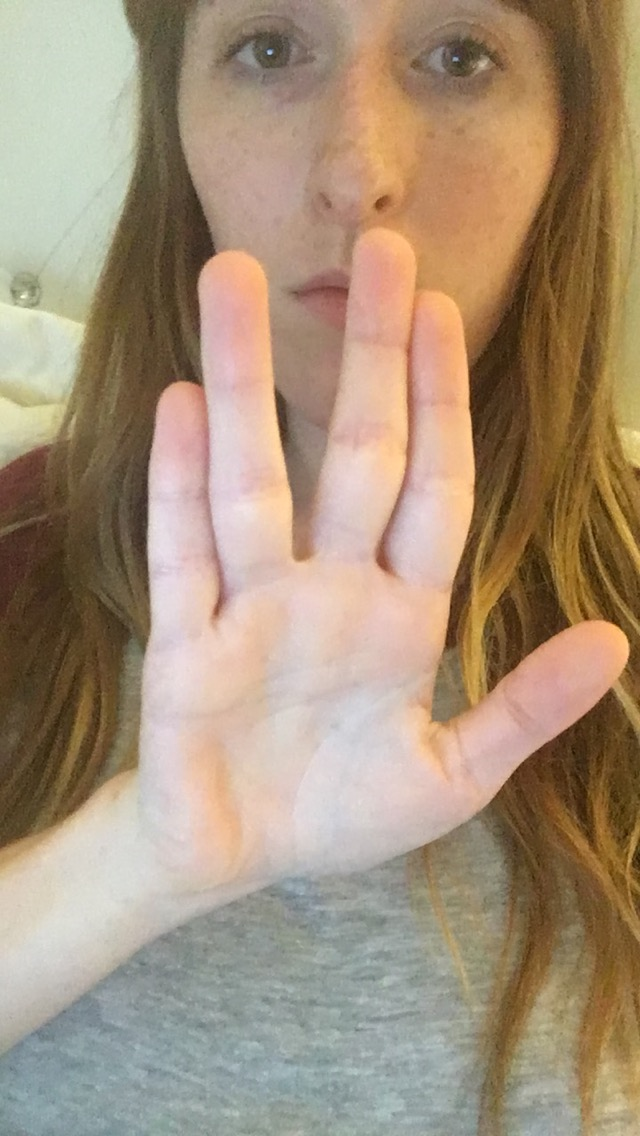defaultd: (143, 228, 631, 890)
